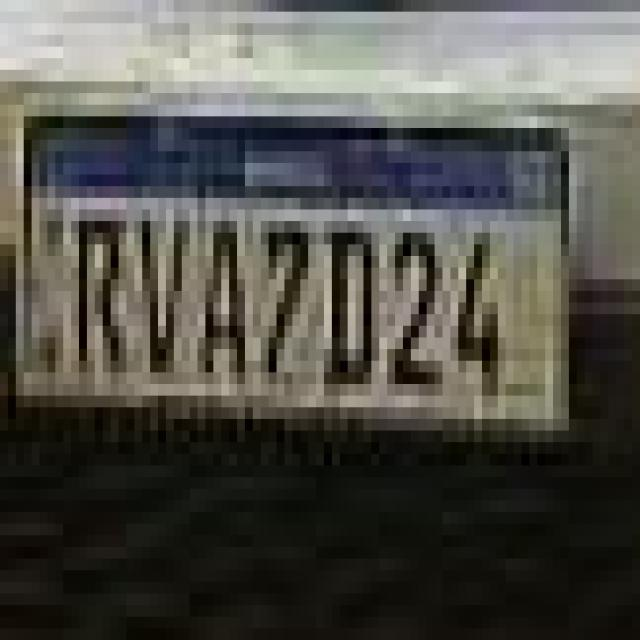4: (456, 216, 512, 409)
7: (259, 209, 314, 386)
A: (206, 201, 253, 386)
D: (329, 217, 380, 386)
R: (70, 198, 129, 382)
V: (136, 202, 193, 385)
